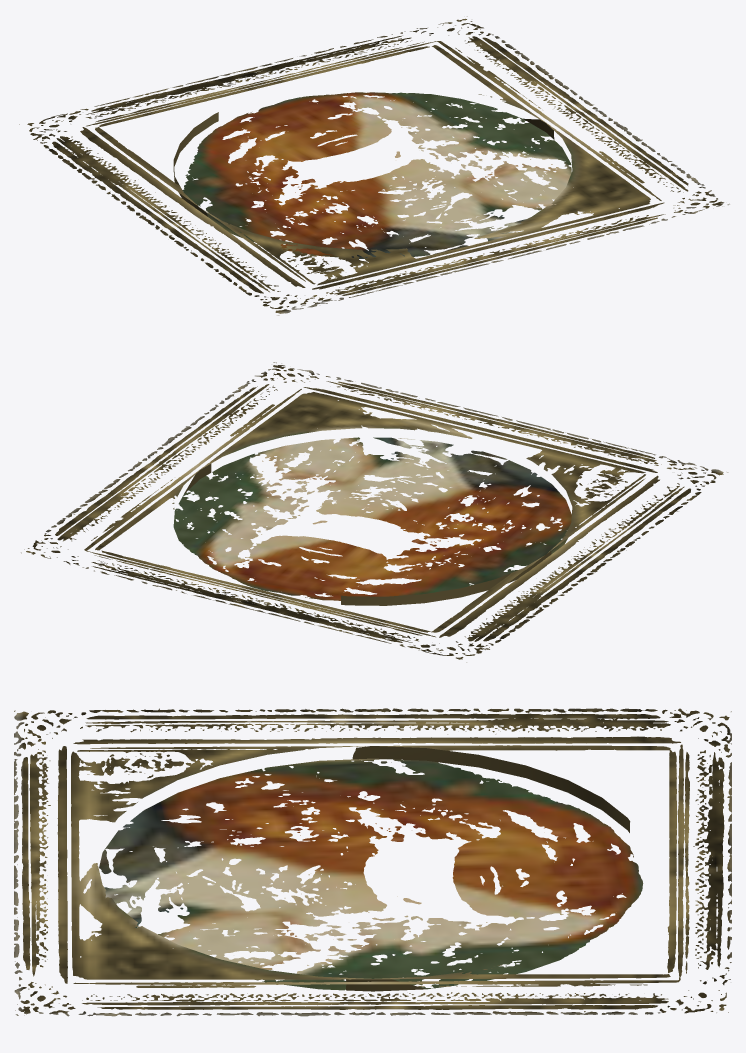
The model's file is art_10_2.fbx.
3 renders of one model, top to bottom at view 1: azimuth 30°, elevation 25°; view 2: azimuth 150°, elevation 25°; view 3: azimuth 270°, elevation 25°, orthographic. The views are drawn at different scales.
Visible parts, largest first — view 1: Cube; view 2: Cube; view 3: Cube.
Part boxes in pixels (left/top/right/bottom): Cube: left=19, top=16, right=729, bottom=315; Cube: left=21, top=362, right=728, bottom=662; Cube: left=14, top=708, right=731, bottom=1016.
Bounding box in the file's own units: 126 × 4.24 × 124.
